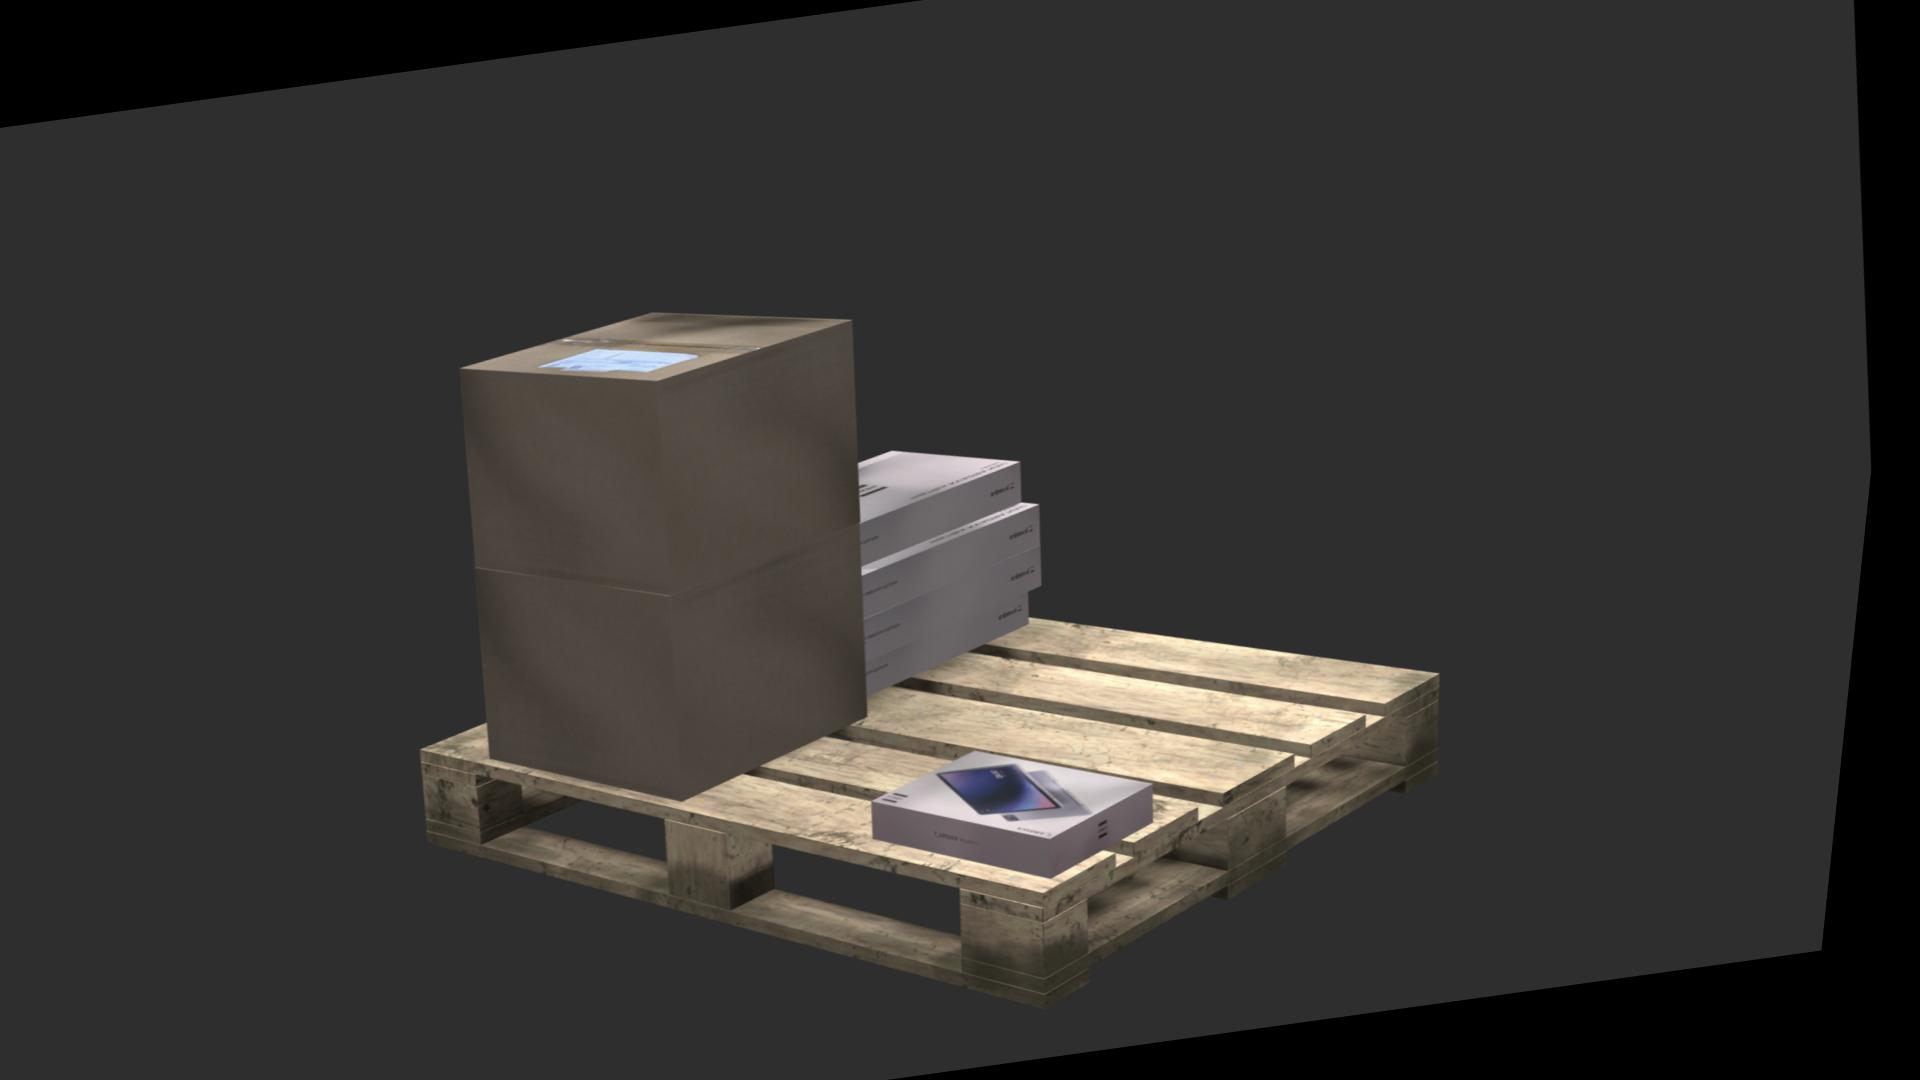group_box_left: (468, 320, 872, 595), (489, 525, 884, 803)
group_box_top: (465, 311, 853, 381)
laptop_left: (877, 550, 1055, 663), (876, 506, 1050, 618), (880, 592, 1042, 696), (872, 464, 1031, 566)
laptop_top: (868, 450, 1027, 521)
palet: (439, 617, 1456, 1010)
tablet_left: (890, 785, 1170, 877)
tablet_top: (890, 750, 1167, 839)
